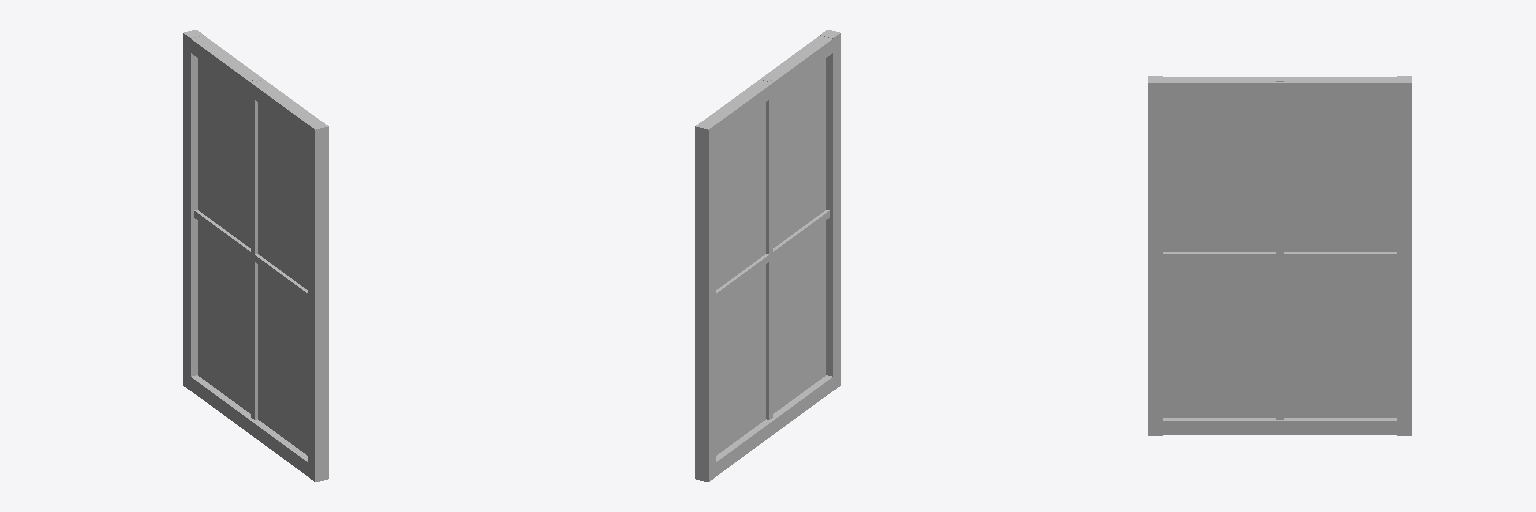
File: window.obj
3 renders of one model, left to right at view 1: azimuth 30°, elevation 25°; view 2: azimuth 150°, elevation 25°; view 3: azimuth 270°, elevation 25°, orthographic.
Parts seen in each view (by area): view 1: Plane, Cube.002, Cube.005, Cube.004, Cube, Cube.001, Cube.003; view 2: Plane, Cube.005, Cube.002, Cube.004, Cube, Cube.001, Cube.003; view 3: Plane, Cube.002, Cube.005, Cube.004, Cube, Cube.001, Cube.003.
Boxes of the visible parts, x1=… form: Plane: x1=198, y1=59, x2=307, y2=455; Cube.002: x1=308, y1=121, x2=328, y2=481; Cube.005: x1=183, y1=30, x2=203, y2=390; Cube.004: x1=191, y1=36, x2=319, y2=137; Cube: x1=191, y1=375, x2=307, y2=475; Cube.001: x1=251, y1=77, x2=260, y2=419; Cube.003: x1=194, y1=210, x2=307, y2=300; Plane: x1=716, y1=59, x2=825, y2=455; Cube.005: x1=695, y1=121, x2=715, y2=481; Cube.002: x1=820, y1=30, x2=840, y2=389; Cube.004: x1=704, y1=36, x2=833, y2=140; Cube: x1=713, y1=375, x2=836, y2=475; Cube.001: x1=763, y1=77, x2=772, y2=419; Cube.003: x1=716, y1=210, x2=829, y2=300; Plane: x1=1163, y1=97, x2=1396, y2=417; Cube.002: x1=1148, y1=76, x2=1162, y2=435; Cube.005: x1=1397, y1=76, x2=1411, y2=435; Cube.004: x1=1156, y1=77, x2=1404, y2=96; Cube: x1=1155, y1=418, x2=1404, y2=434; Cube.001: x1=1276, y1=78, x2=1283, y2=419; Cube.003: x1=1163, y1=252, x2=1396, y2=260.
Size of the model in its own units: 0.2 by 5 by 3.4.